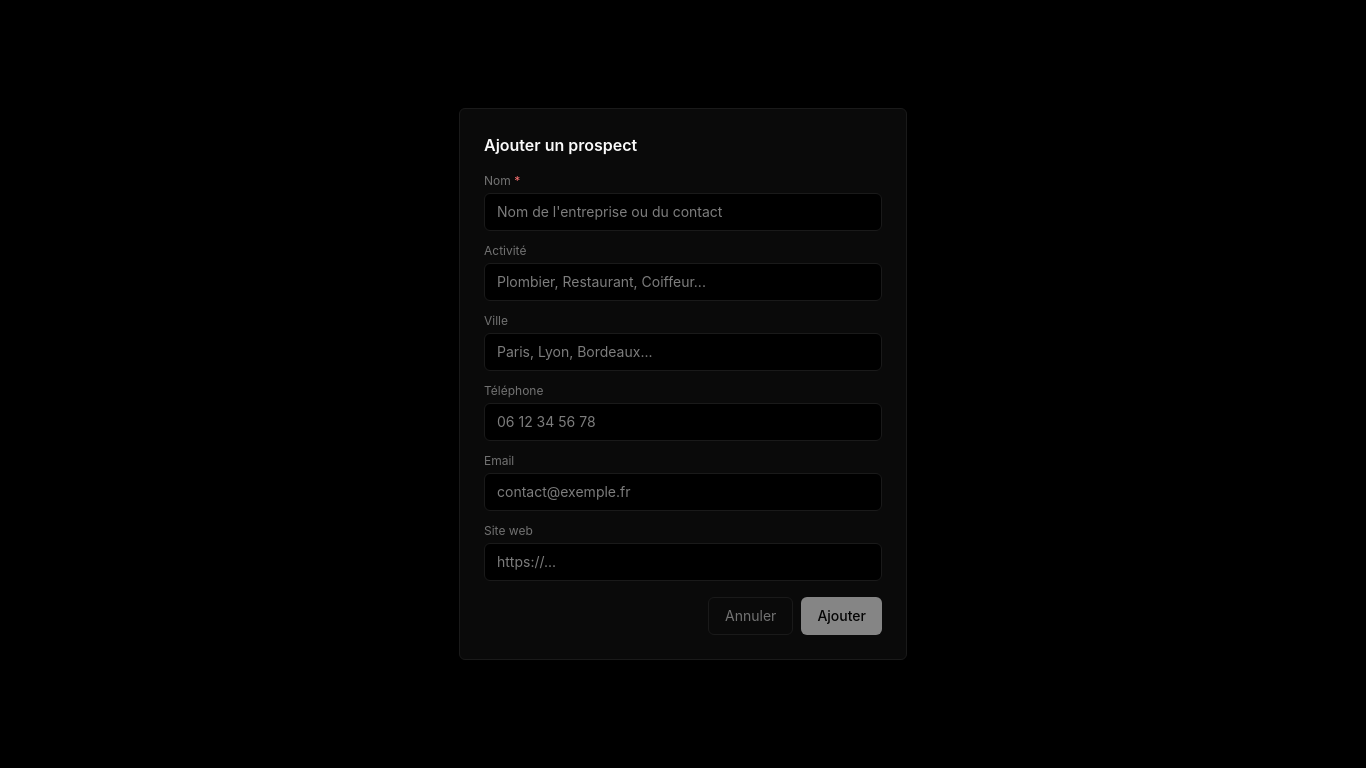
Scenario: AddProspectModal › Ajouter button is enabled when nom has a value
Step 1. Type "Test SARL" into the field with placeholder "Nom de l'entreprise ou du contact" → (683, 212), box x1=484 y1=193 x2=882 y2=231
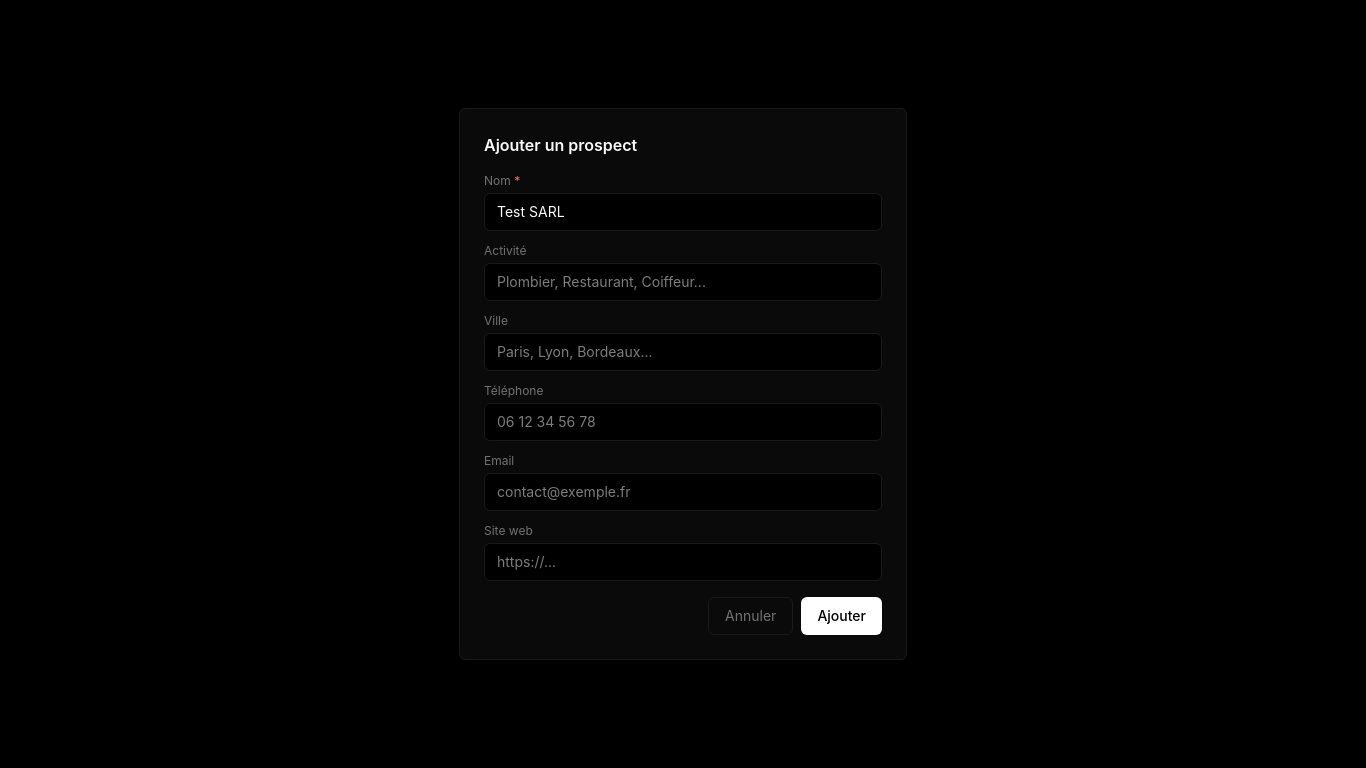
Now the button "Ajouter" is enabled, box x1=801 y1=597 x2=882 y2=635
